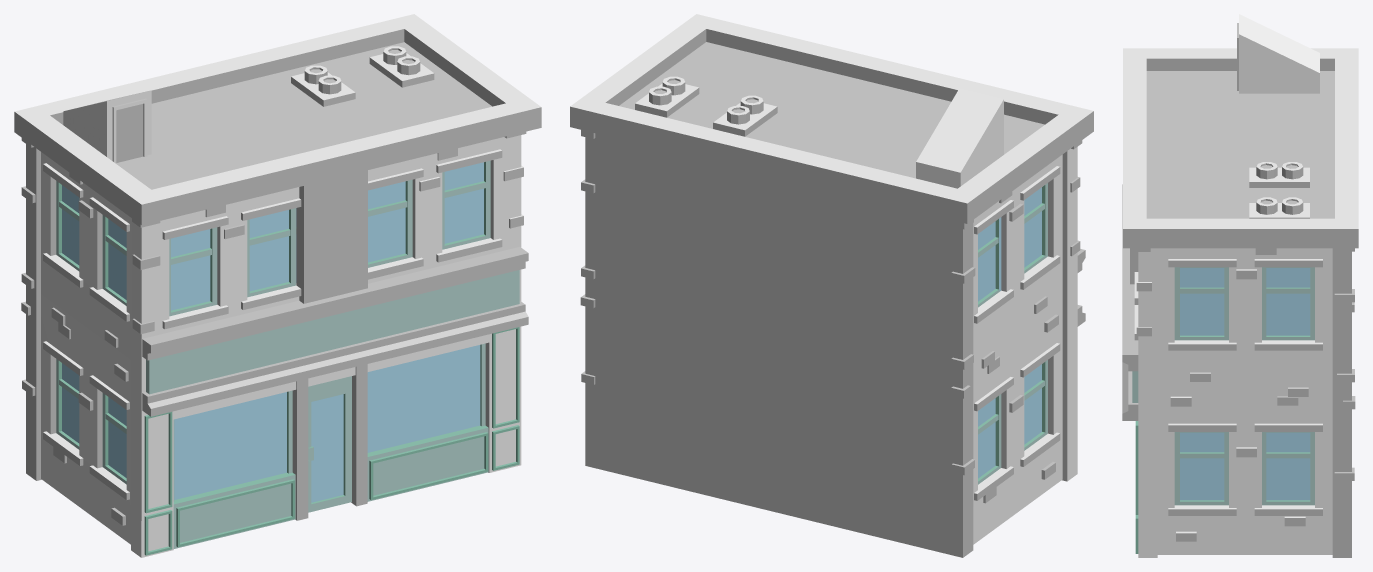
The model's file is house_small_2_001.fbx.
3 renders of one model, left to right at view 1: azimuth 30°, elevation 25°; view 2: azimuth 150°, elevation 25°; view 3: azimuth 270°, elevation 25°, orthographic. The views are drawn at different scales.
Visible parts, largest first — view 1: house_small_2_001; view 2: house_small_2_001; view 3: house_small_2_001.
Boxes of the visible parts, bbox=[...] form: house_small_2_001: bbox=[14, 14, 541, 557]; house_small_2_001: bbox=[570, 14, 1093, 557]; house_small_2_001: bbox=[1122, 14, 1358, 557].
Size of the model in its own units: 724 by 713 by 400.
